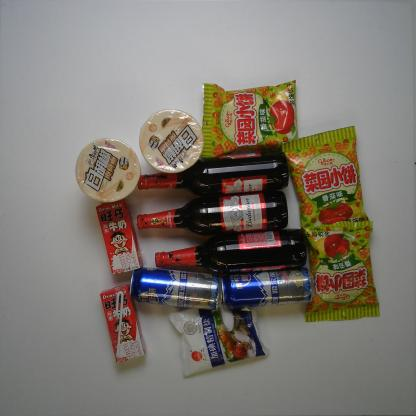Alcohol: (152, 222, 310, 277), (135, 145, 291, 199), (134, 188, 289, 238), (219, 265, 318, 312), (128, 265, 224, 312)
Instant Noodles: (74, 136, 142, 204), (138, 108, 206, 175)
Milk: (96, 282, 148, 366), (93, 198, 145, 276)
Puffed Food: (280, 124, 374, 239), (296, 216, 382, 324), (198, 78, 300, 161)
Seasoner: (165, 298, 273, 381)
